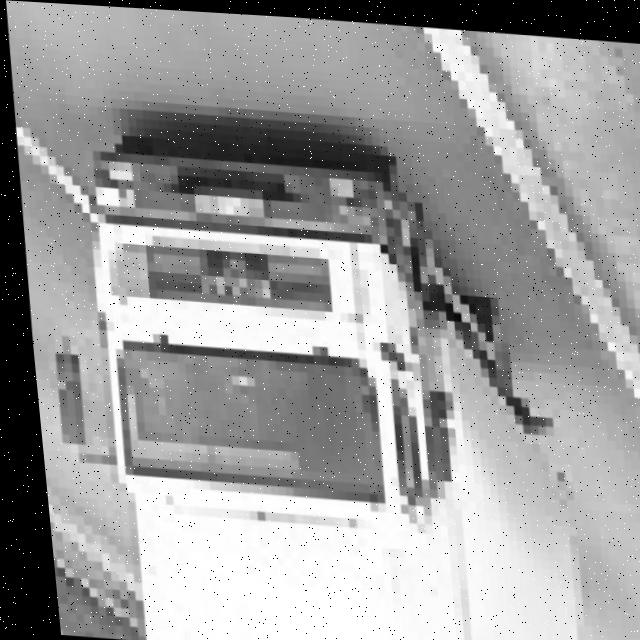truck: (9, 104, 483, 610)
